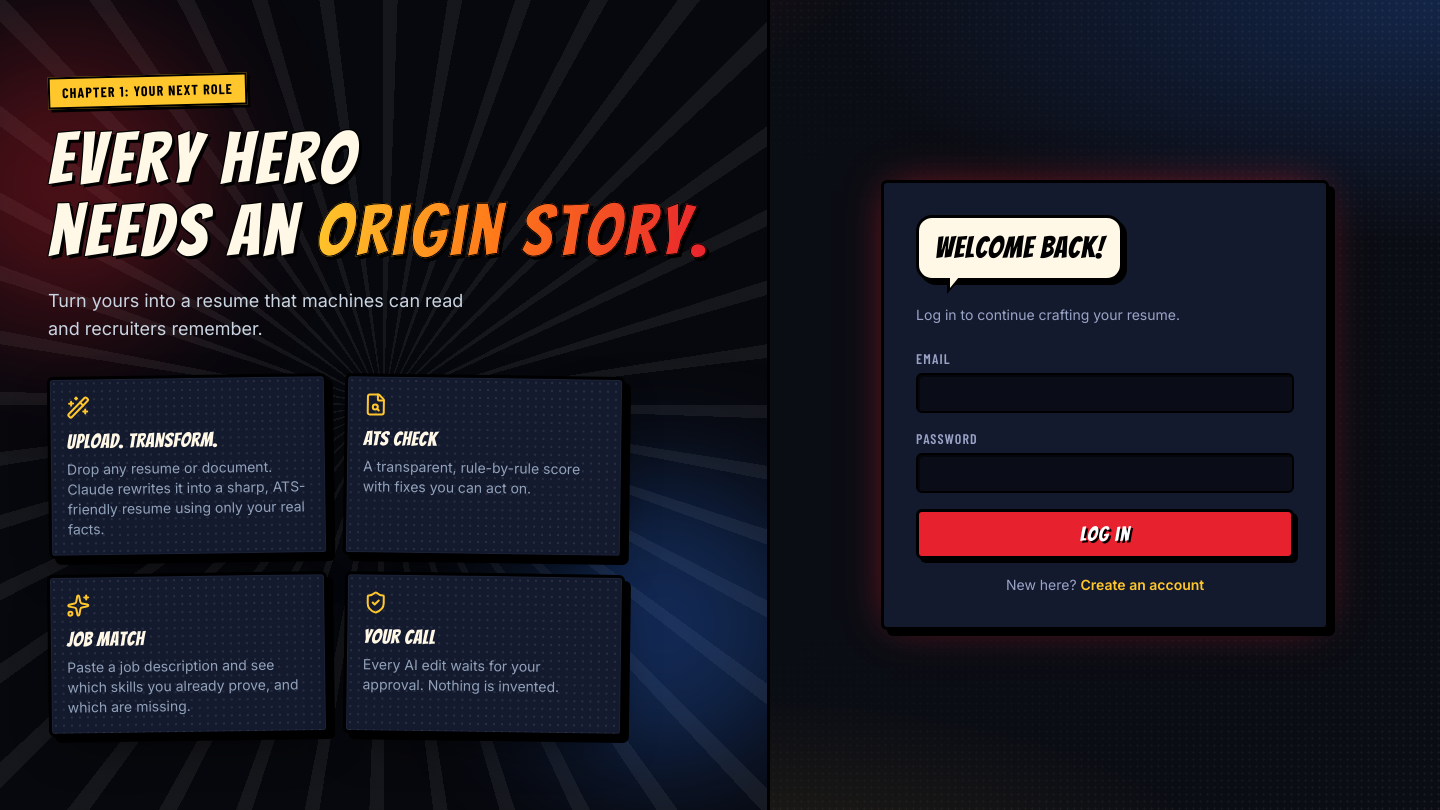
it: auth forms › shows validation messages for an empty login form
The image size is (1440, 810).
Click the button "Log in": (1105, 534) [916,509,1294,559]
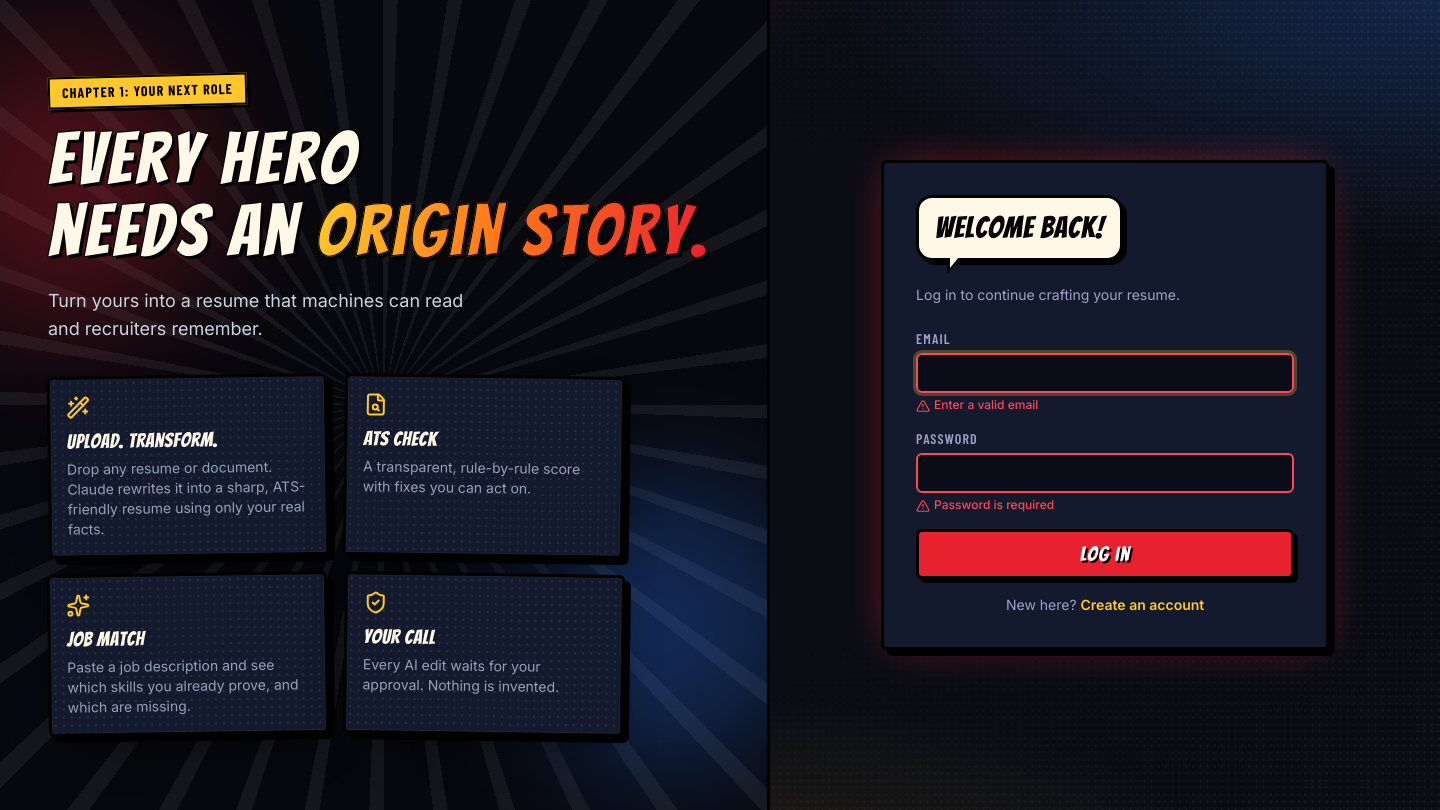
Expected: the text "Enter a valid email" is shown, [916,397,1038,413]
Expected: the text "Password is required" is shown, [916,497,1054,513]
